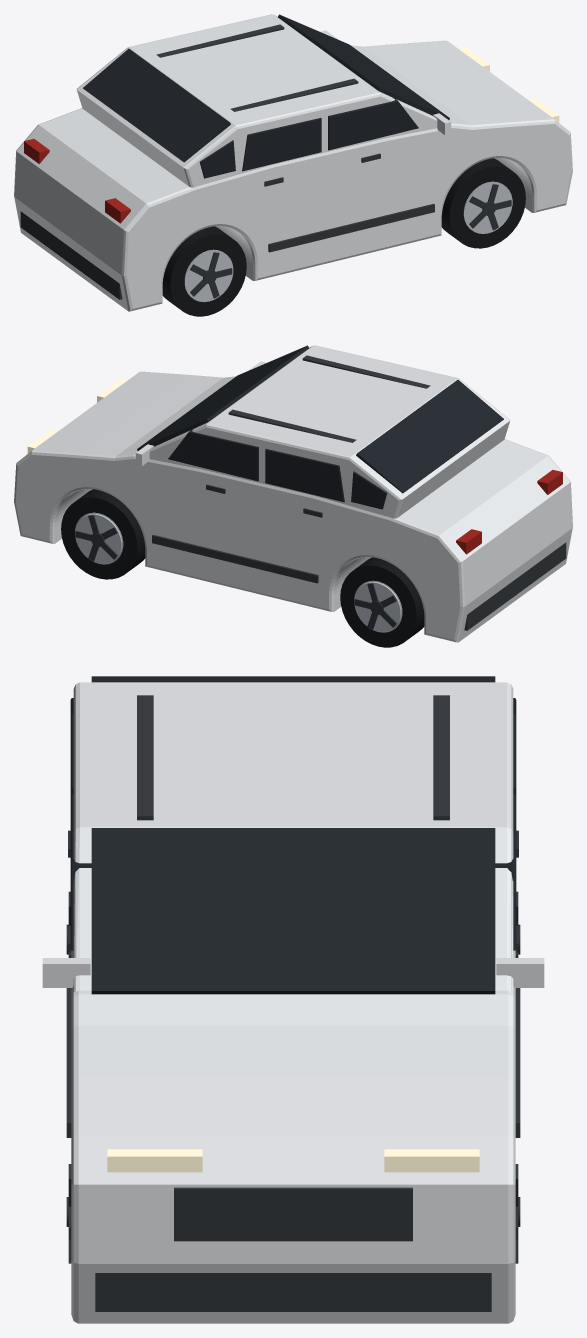
The model's file is SUV.glb.
3 views of the same model, one above another, from view 1: azimuth 30°, elevation 25°; view 2: azimuth 150°, elevation 25°; view 3: azimuth 270°, elevation 25° (orthographic). The views are drawn at different scales.
Parts seen in each view (by area): view 1: body, cabin, rear_glass_1, tire (×2), windshield, side_window_1, side_window_2, rim_face (×2), rear_bumper, side_skirt, roof_rail (×2), side_window_3 (+1 smaller); view 2: body, cabin, rear_glass_1, tire (×2), windshield, side_window_1, side_window_2, rim_face (×2), rear_bumper, side_skirt, roof_rail (×2), side_window_3 (+1 smaller); view 3: body, windshield, cabin, front_bumper, grille, headlight (×2), roof_rail (×2), rear_glass_1, mirror (×2), side_skirt (×2), side_window_1.
Part boxes in pixels (<box>): body: <box>14,40,572,311</box>; cabin: <box>76,14,437,187</box>; rear_glass_1: <box>83,48,230,162</box>; tire (×2): <box>162,158,525,316</box>; windshield: <box>278,14,449,119</box>; side_window_1: <box>328,97,418,150</box>; side_window_2: <box>242,118,321,171</box>; rim_face (×2): <box>185,182,512,302</box>; rear_bumper: <box>20,211,122,299</box>; side_skirt: <box>268,203,434,252</box>; roof_rail (×2): <box>156,24,358,111</box>; side_window_3: <box>199,140,235,178</box>; body: <box>14,371,572,642</box>; cabin: <box>149,345,510,518</box>; rear_glass_1: <box>356,379,503,493</box>; tire (×2): <box>61,489,424,647</box>; windshield: <box>137,345,308,450</box>; side_window_1: <box>168,428,258,481</box>; side_window_2: <box>265,449,344,502</box>; rim_face (×2): <box>75,513,401,631</box>; rear_bumper: <box>464,542,566,630</box>; side_skirt: <box>152,534,318,583</box>; roof_rail (×2): <box>228,355,430,442</box>; side_window_3: <box>351,471,387,509</box>; body: <box>71,950,515,1323</box>; windshield: <box>91,828,495,994</box>; cabin: <box>73,682,513,991</box>; front_bumper: <box>95,1273,491,1311</box>; grille: <box>174,1187,412,1241</box>; headlight (×2): <box>107,1149,479,1172</box>; roof_rail (×2): <box>137,695,449,820</box>; rear_glass_1: <box>91,676,495,682</box>; mirror (×2): <box>42,958,544,987</box>; side_skirt (×2): <box>66,988,520,1137</box>; side_window_1: <box>70,794,516,950</box>.
Bounding box in the file's own units: 4.36 × 1.7 × 2.1.
